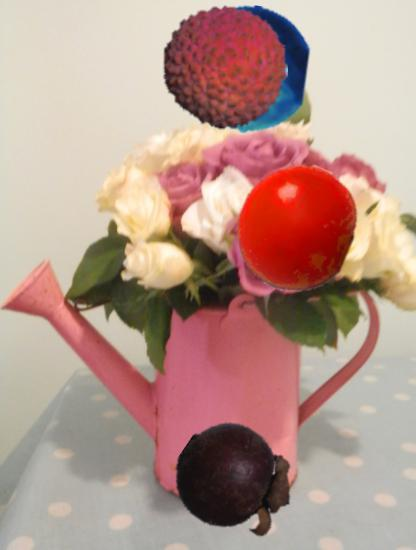Huckleberry: (183, 5, 311, 133)
Lychee: (161, 4, 288, 131)
Mangostan: (175, 421, 294, 540)
Tomato: (232, 163, 361, 292)
